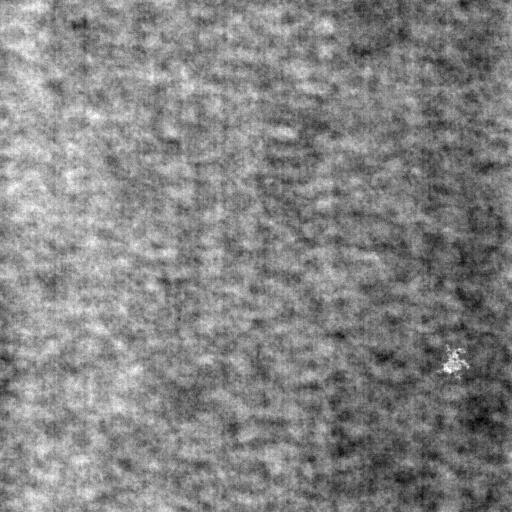stain: (434, 343, 474, 389)
